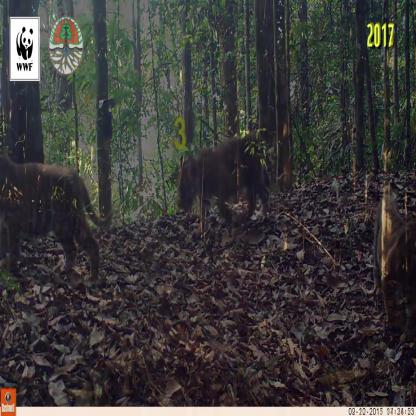Tiger: (0, 152, 109, 300), (172, 133, 287, 237)
